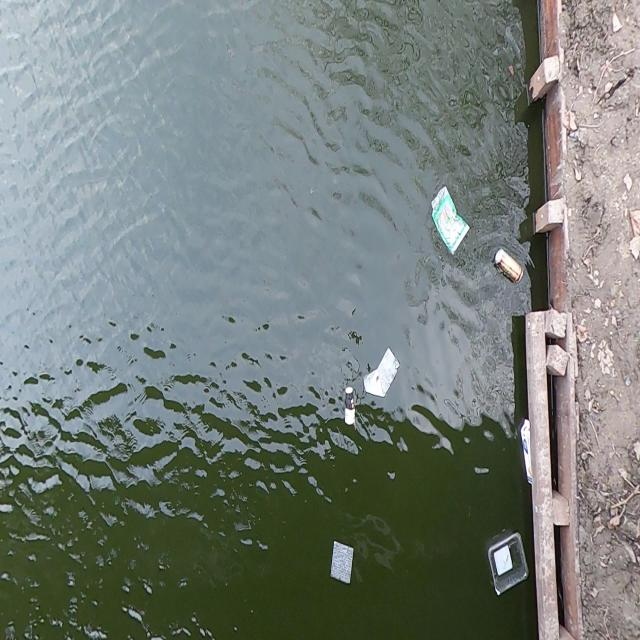Autre plastique: (425, 180, 473, 262), (484, 530, 533, 606)
Non plastique: (492, 246, 527, 292), (342, 383, 360, 428)
